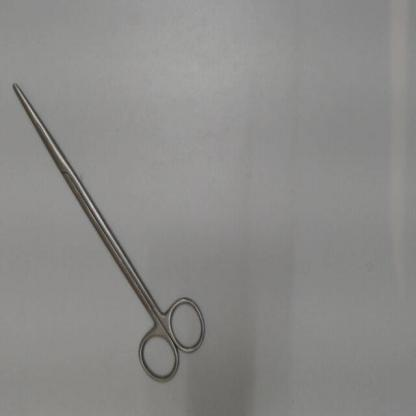9 Metzenbaum Scissors: (8, 72, 214, 390)
